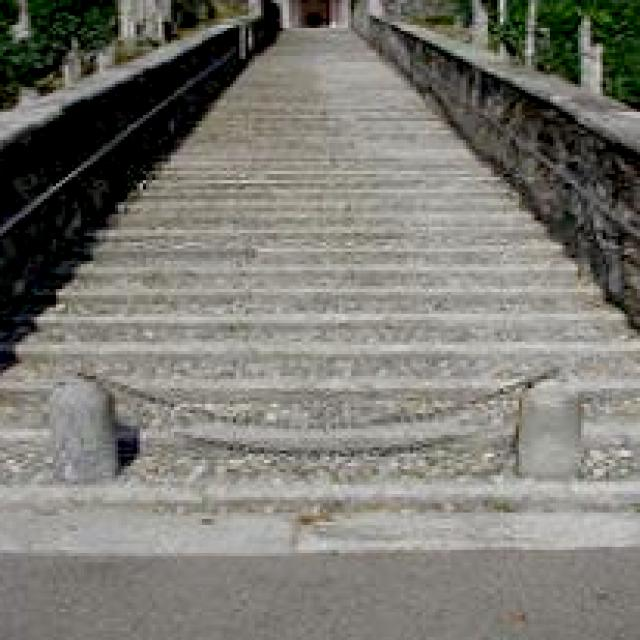downstair: (14, 287, 567, 554)
